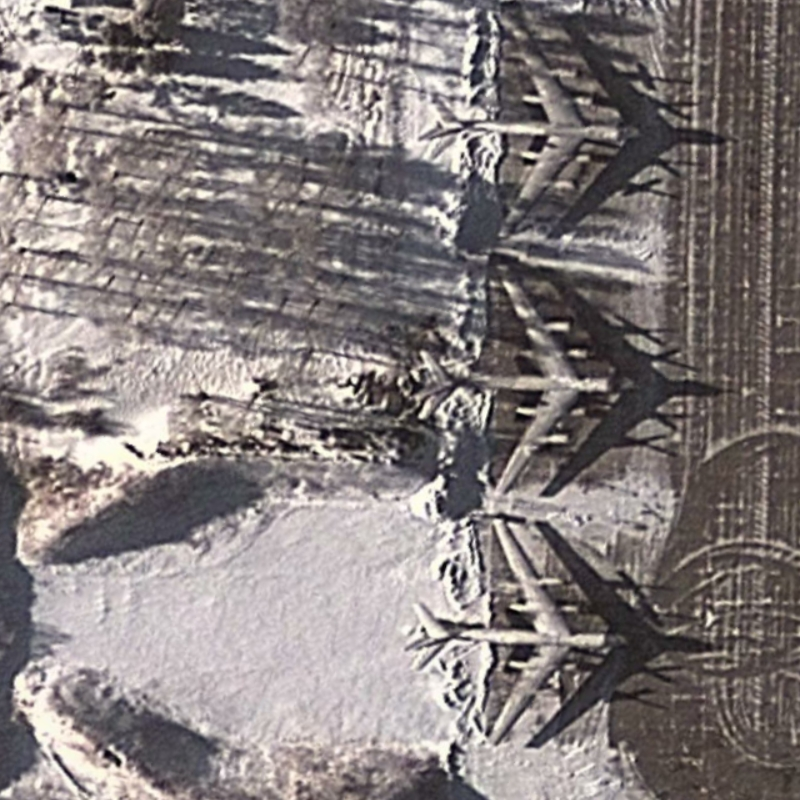A17: (401, 514, 638, 750), (410, 259, 639, 503), (424, 10, 645, 242)
